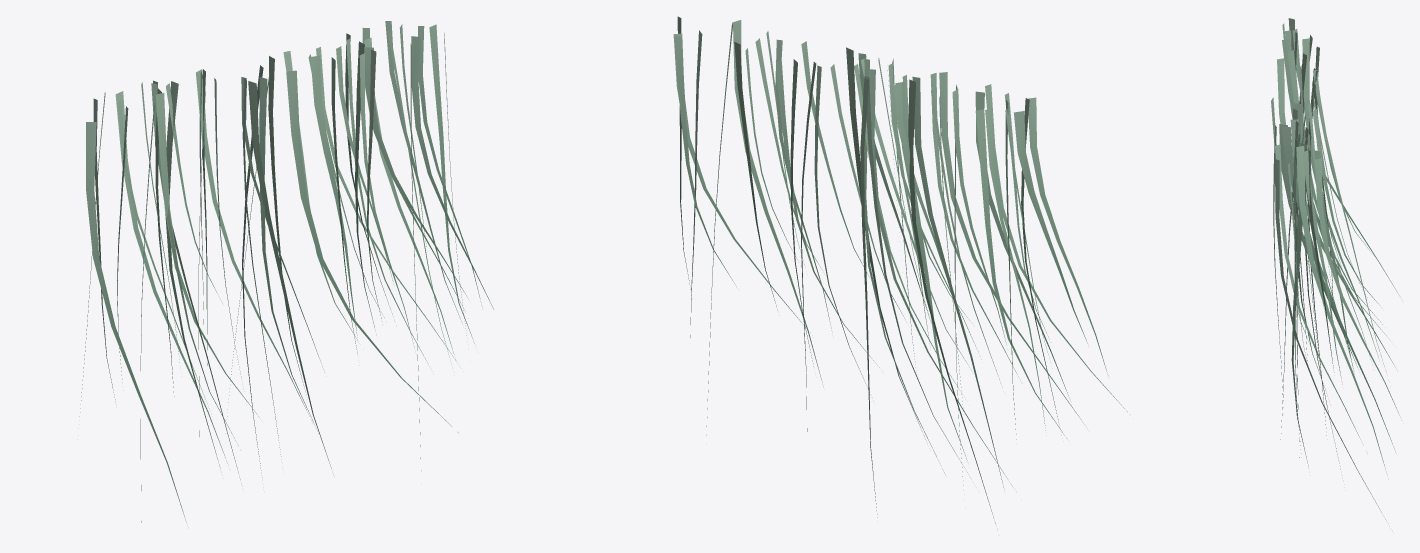
Rendered from mesh-plant-043-hanging-gardens_LOD1.glb.
3 views of the same model, side by side, from view 1: azimuth 30°, elevation 25°; view 2: azimuth 150°, elevation 25°; view 3: azimuth 270°, elevation 25° (orthographic). The views are drawn at different scales.
Visible parts, largest first — view 1: geometry_0; view 2: geometry_0; view 3: geometry_0.
Boxes of the visible parts, x1,y1,x2,y2 form: geometry_0: [79, 21, 493, 522]; geometry_0: [673, 16, 1127, 523]; geometry_0: [1271, 18, 1400, 526].
Bounding box in the file's own units: 3 × 2.36 × 1.52.
